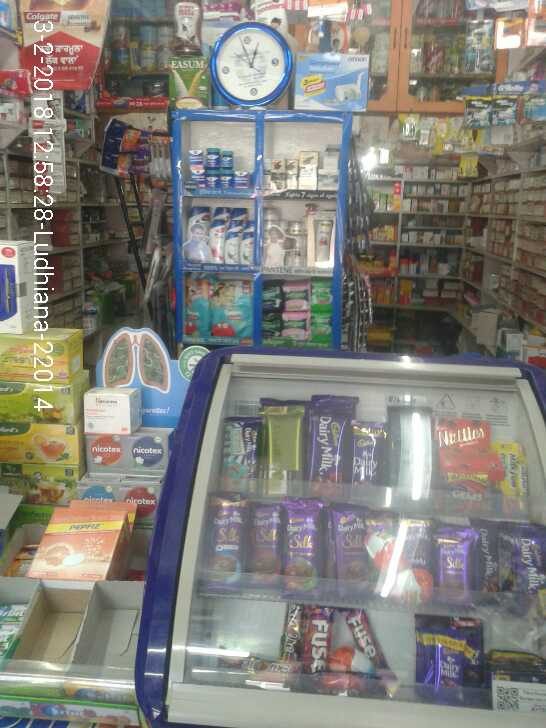vicks: (185, 147, 253, 187)
